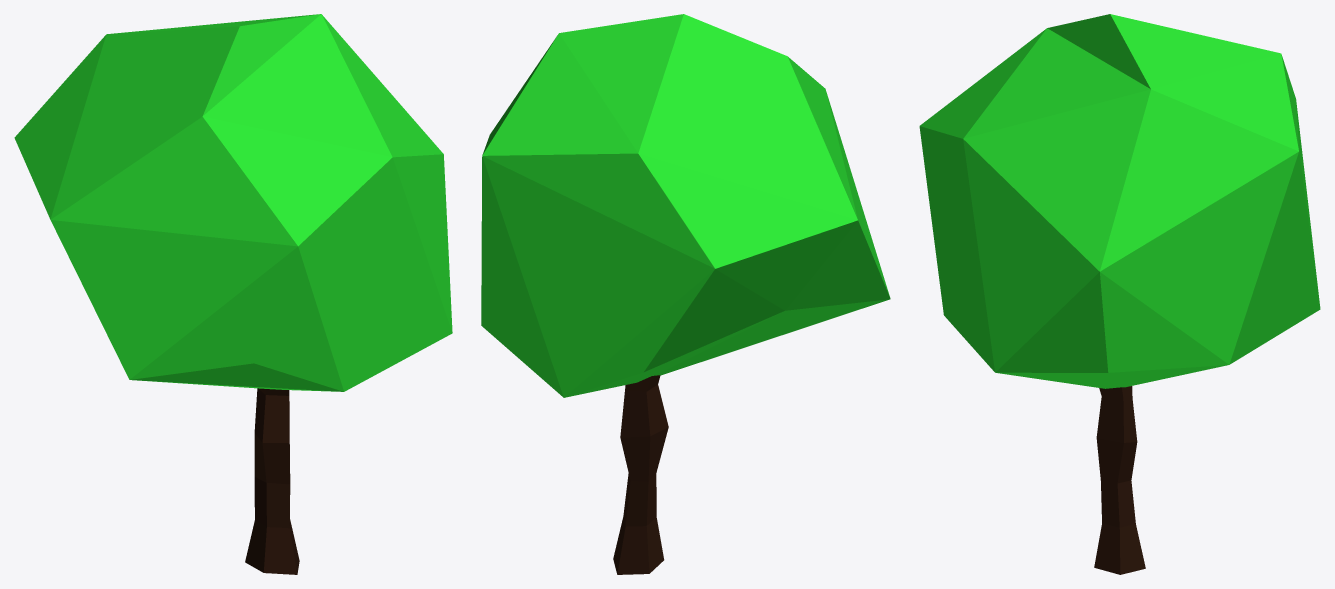
The model's file is Tree001.FBX.
The picture shows the model from 3 angles, left to right: view 1: azimuth 30°, elevation 25°; view 2: azimuth 150°, elevation 25°; view 3: azimuth 270°, elevation 25°; orthographic projection. The views are drawn at different scales.
Visible parts, largest first — view 1: GeoSphere001, Cylinder001; view 2: GeoSphere001, Cylinder001; view 3: GeoSphere001, Cylinder001.
Part boxes in pixels (x1,y1,x2,y2): GeoSphere001: (14, 14, 452, 391); Cylinder001: (245, 388, 299, 574); GeoSphere001: (481, 14, 890, 397); Cylinder001: (613, 375, 668, 574); GeoSphere001: (919, 14, 1320, 388); Cylinder001: (1094, 386, 1145, 574).
Size of the model in its own units: 32.63 by 45.65 by 31.16.
